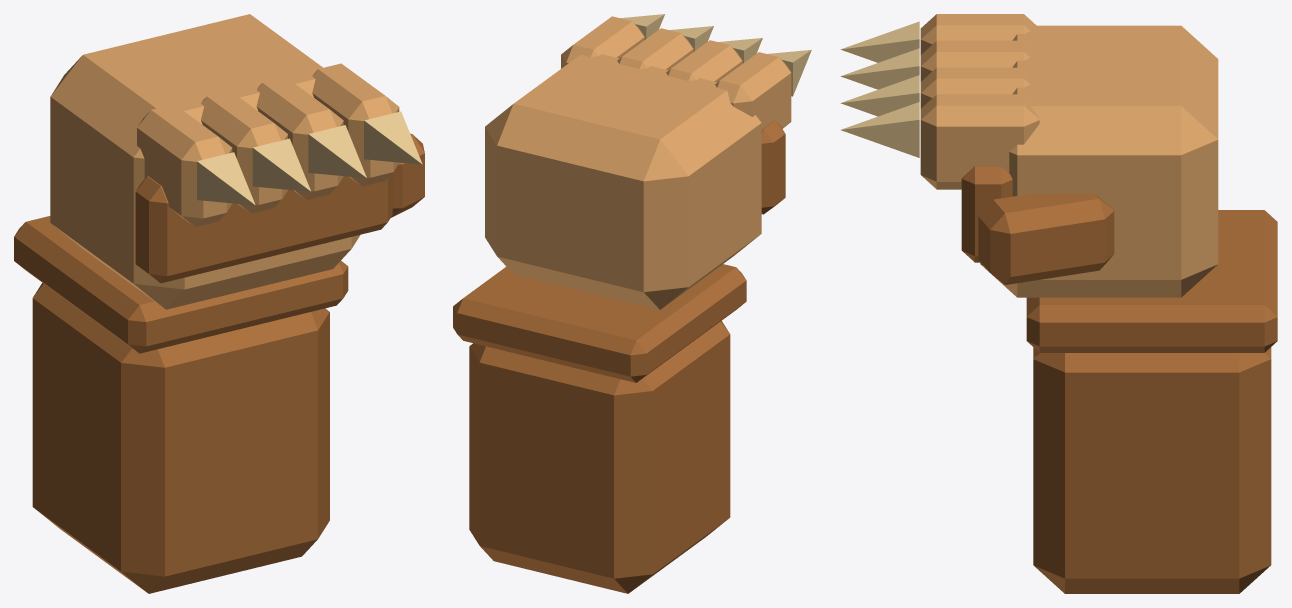
The model's file is WoodGauntlet.fbx.
3 renders of one model, left to right at view 1: azimuth 30°, elevation 25°; view 2: azimuth 150°, elevation 25°; view 3: azimuth 270°, elevation 25°, orthographic. The views are drawn at different scales.
Visible parts, largest first — view 1: WoodGauntlet; view 2: WoodGauntlet; view 3: WoodGauntlet.
Boxes of the visible parts, x1,y1,x2,y2 form: WoodGauntlet: (14, 14, 424, 593); WoodGauntlet: (453, 14, 811, 593); WoodGauntlet: (840, 14, 1277, 593).
Bounding box in the file's own units: 1.26 × 2.08 × 1.65.
Materials: 1 (1 with a texture image).
